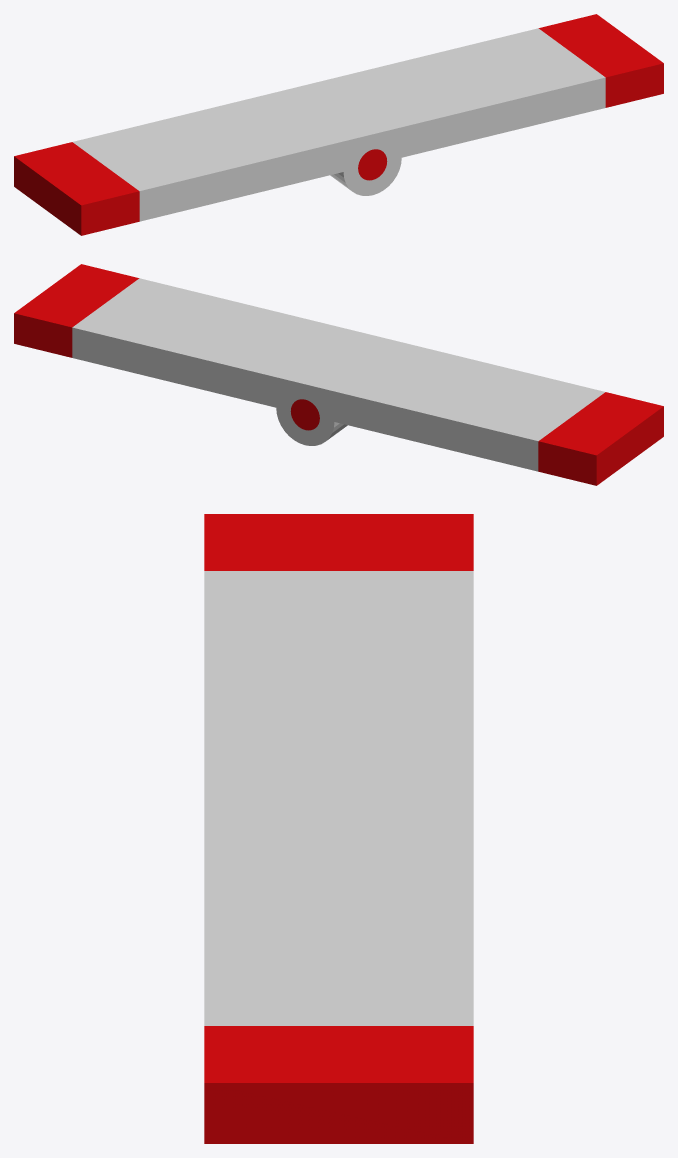
The model's file is Platform.fbx.
The picture shows the model from 3 angles, top to bottom: view 1: azimuth 30°, elevation 25°; view 2: azimuth 150°, elevation 25°; view 3: azimuth 270°, elevation 25°; orthographic projection. The views are drawn at different scales.
Visible parts, largest first — view 1: Platform, HandleRight, HandleLeft, Pivot; view 2: Platform, HandleRight, HandleLeft, Pivot; view 3: Platform, HandleLeft, HandleRight.
Part boxes in pixels (x1,y1,x2,y2): Platform: (72, 28, 605, 221); HandleRight: (14, 142, 139, 235); HandleLeft: (538, 14, 663, 107); Pivot: (358, 149, 387, 180); Platform: (72, 278, 605, 471); HandleRight: (538, 392, 663, 485); HandleLeft: (14, 264, 139, 357); Pivot: (290, 399, 319, 430); Platform: (204, 571, 473, 1025); HandleLeft: (204, 1026, 473, 1143); HandleRight: (204, 514, 473, 570).
Bounding box in the file's own units: 100 × 10 × 20.
